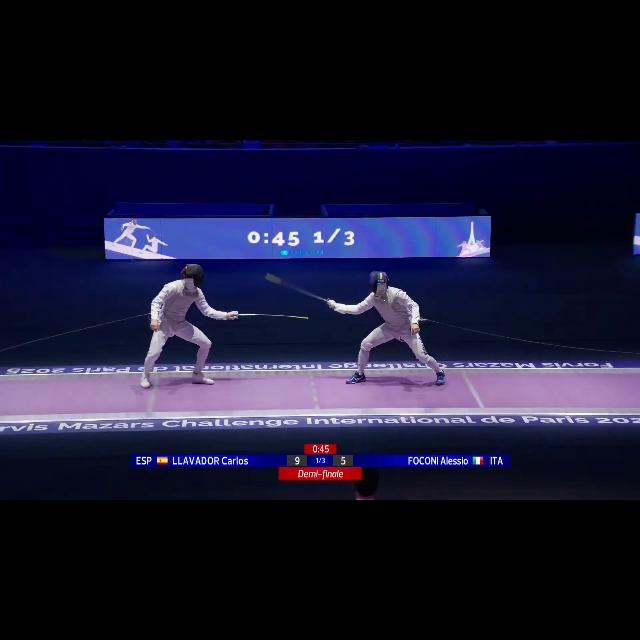blade: (264, 274, 334, 306), (226, 312, 312, 324)
